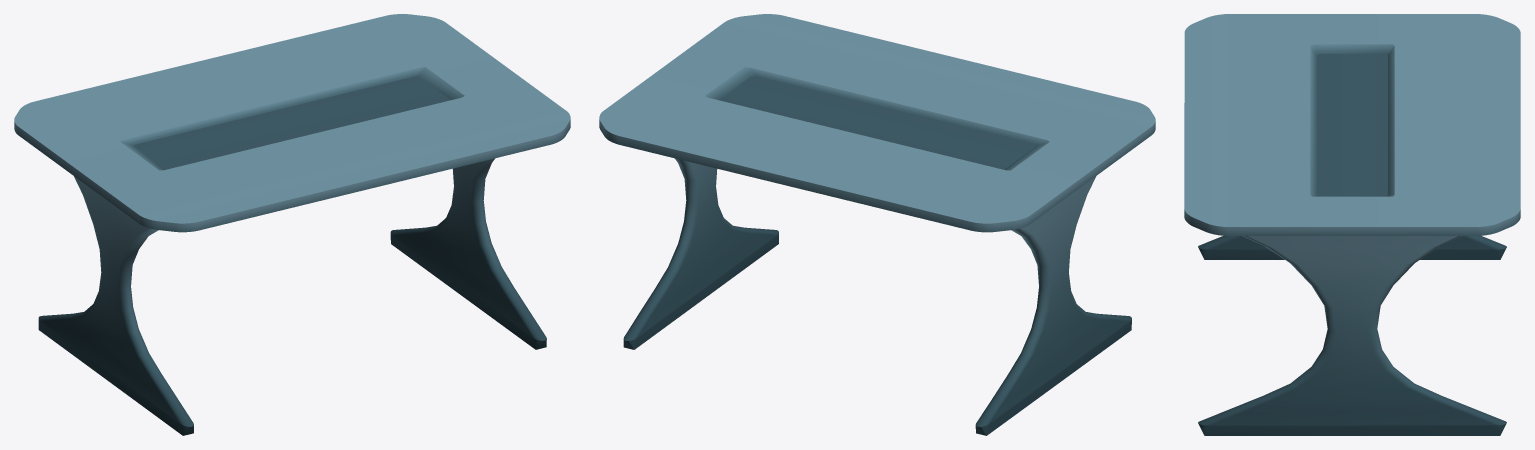
The model's file is Table.fbx.
3 renders of one model, left to right at view 1: azimuth 30°, elevation 25°; view 2: azimuth 150°, elevation 25°; view 3: azimuth 270°, elevation 25°, orthographic. The views are drawn at different scales.
Visible parts, largest first — view 1: Table; view 2: Table; view 3: Table.
Part boxes in pixels (x1,y1,x2,y2): Table: [14, 14, 570, 435]; Table: [599, 14, 1155, 435]; Table: [1184, 14, 1520, 435].
Size of the model in its own units: 1.5 by 1 by 0.7377.
